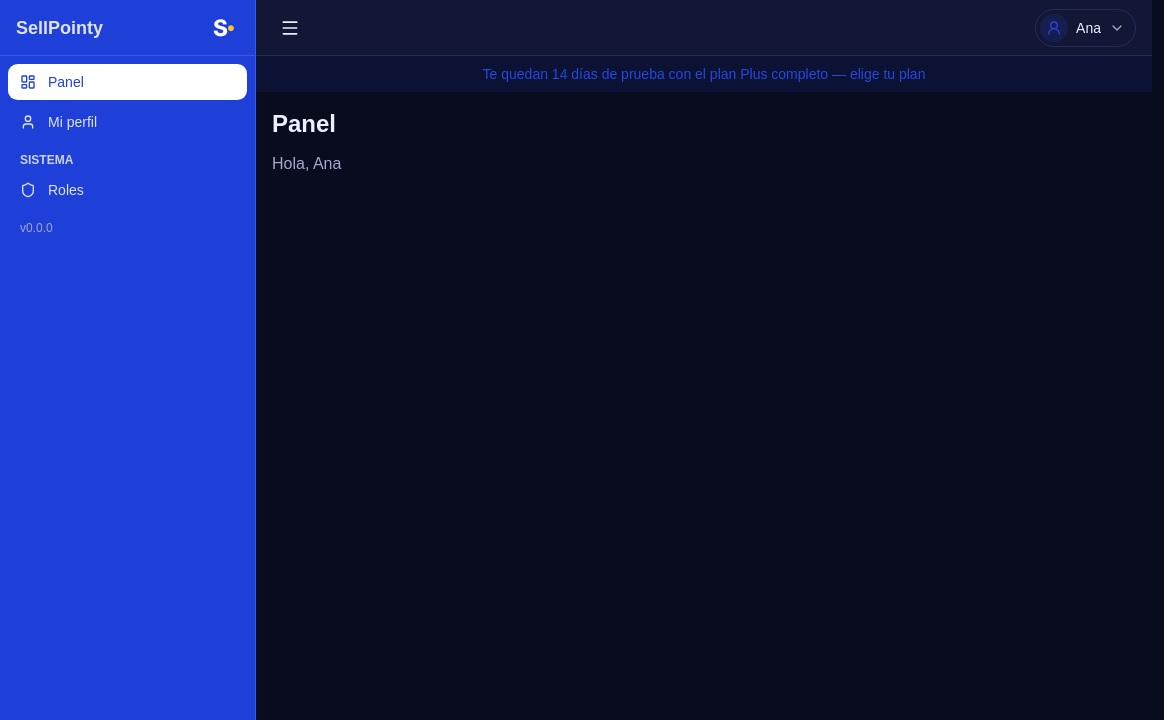
it: /system/users › con roles:read (sin users:read): el nav lista 'Roles' pero NO 'Usuarios', y navega a /system/roles
This screenshot has width=1164, height=720.
Check: the link "Usuarios" is not shown
Click the link "Roles" at [52, 190], box [20,182,84,198]
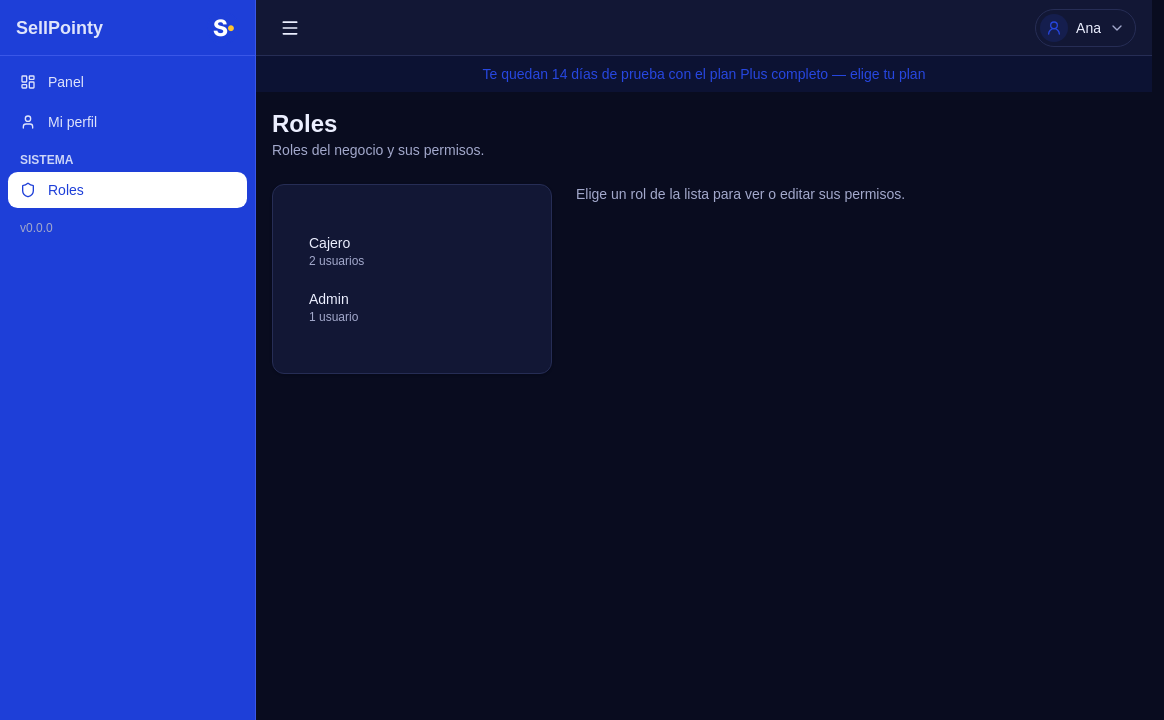
Check: the heading "Roles" is shown, box [272,110,337,137]
